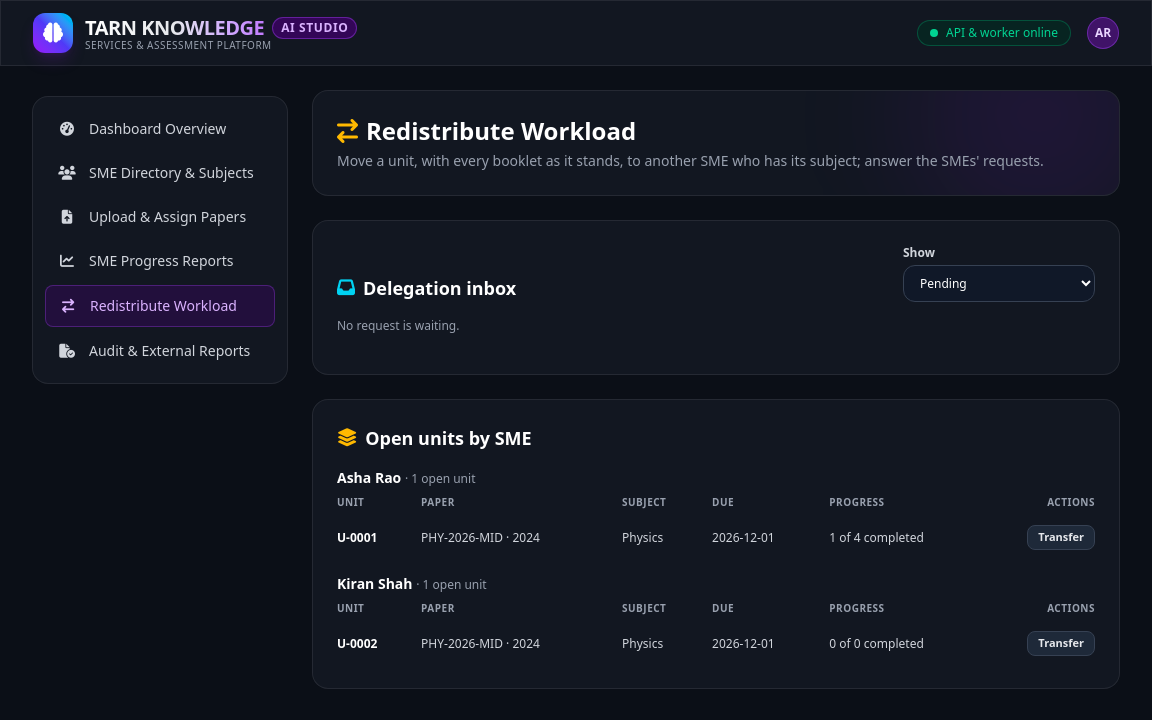
Redistribute Workload › lists open units by SME and moves one to an entitled SME with a reason
Expected: the text "1 of 4 completed" is shown, [829,517,994,558]
Expected: the element named "Units of Kiran Shah" is shown, [337,574,1095,664]
Click the button "Transfer" in the row of "U-0001".
click(1061, 538)  # box [1027,525,1095,550]
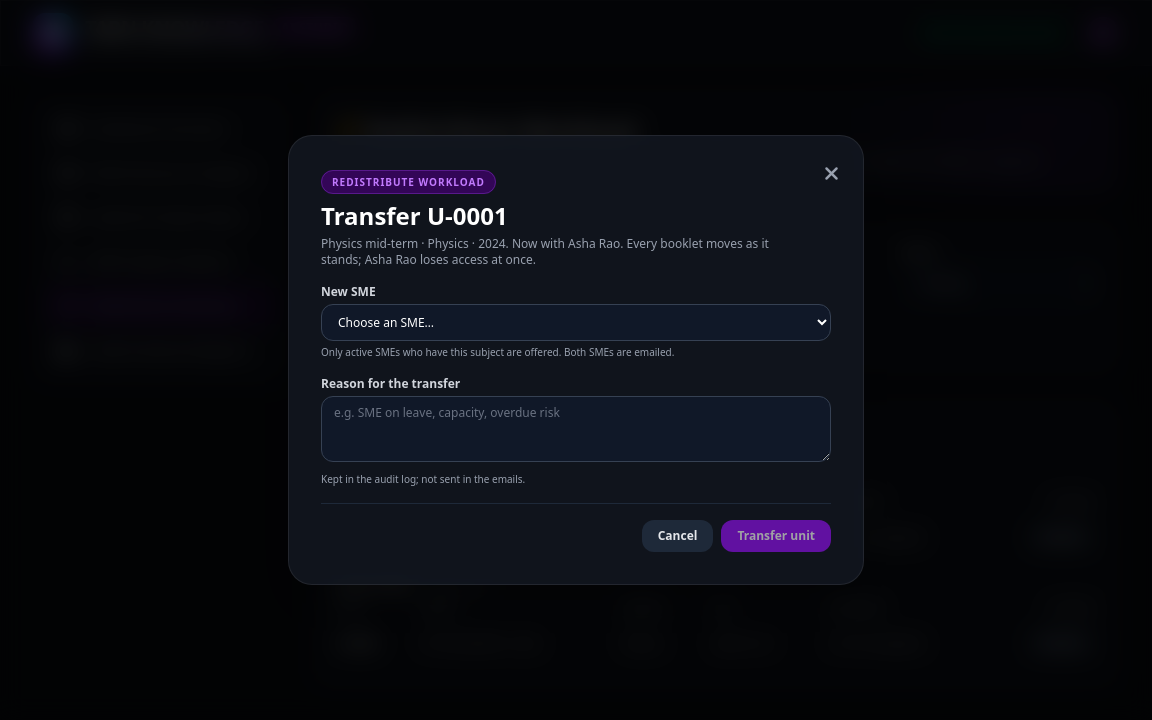
Now the button "Transfer unit" is disabled, box [721,520,831,552]
Select "Kiran Shah (kiran@college.test)" in the dropdown labelled "New SME" at (576, 322), box [321,304,831,341]
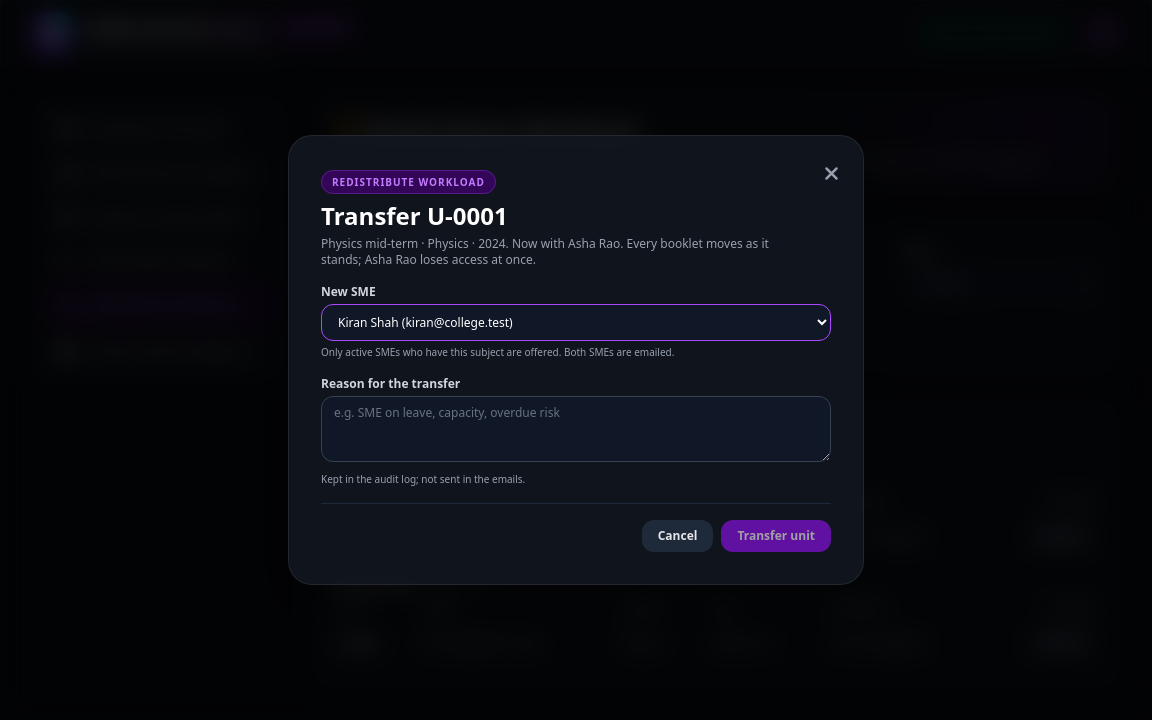
Now the button "Transfer unit" is disabled, box [721,520,831,552]
Type "Asha on leave" into the text box labelled "Reason for the transfer".
click(576, 429); type("Asha on leave")  # box [321,396,831,462]
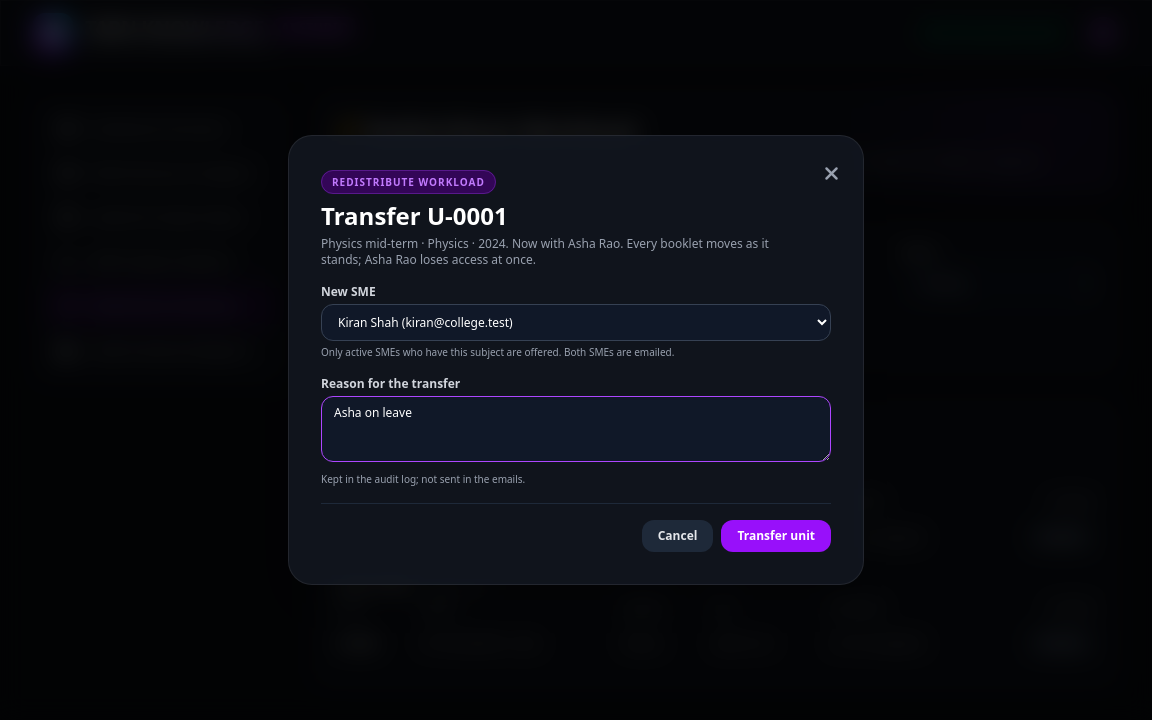
Click the button "Transfer unit".
click(776, 536)  # box [721,520,831,552]
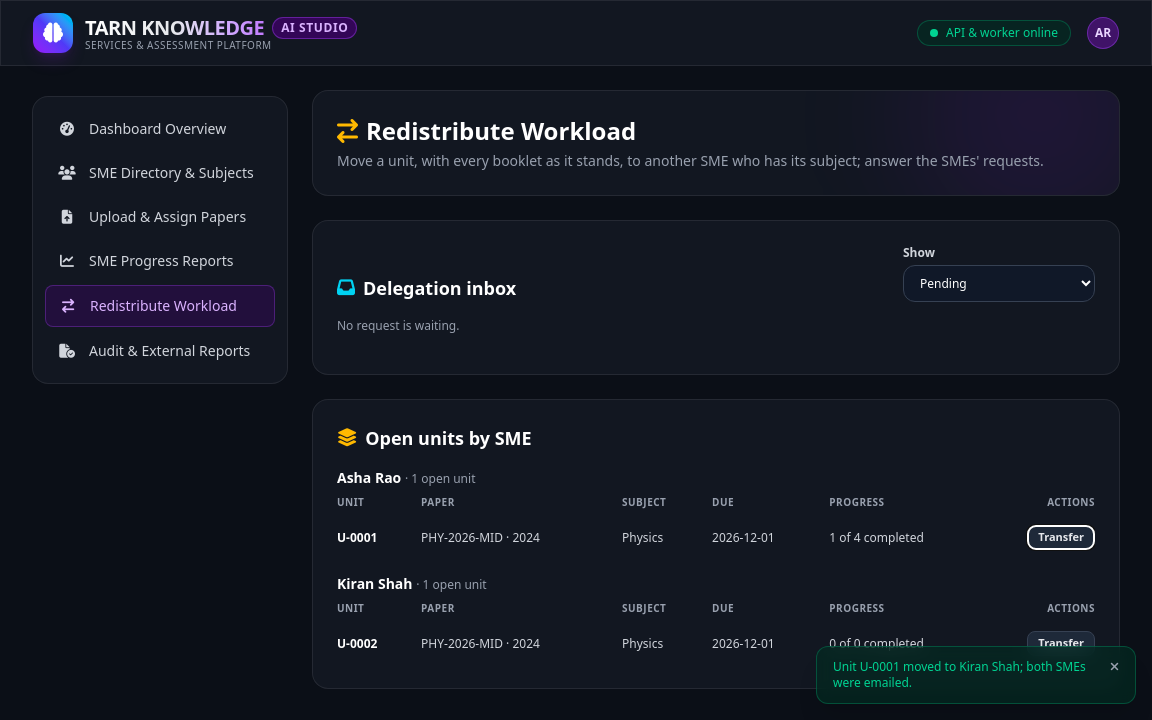
Now the text "Unit U-0001 moved to Kiran Shah; both SMEs were emailed." is shown, box [833,659,1102,691]
Now the dialog is gone
